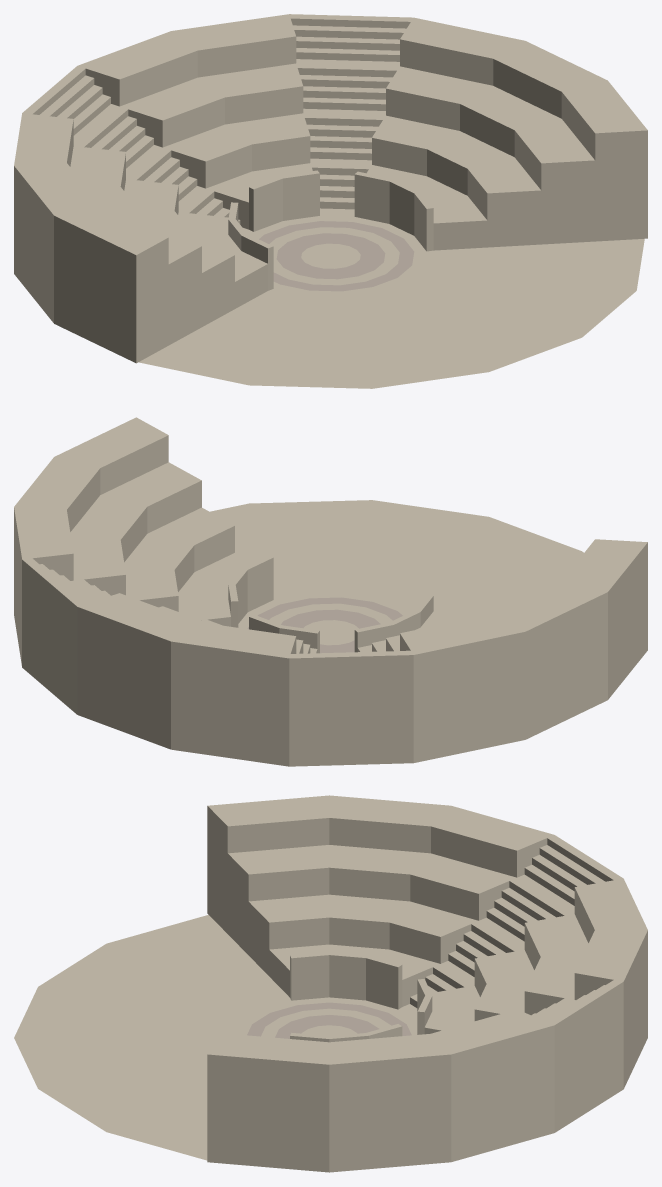
The model's file is Senate.fbx.
The picture shows the model from 3 angles, top to bottom: view 1: azimuth 30°, elevation 25°; view 2: azimuth 150°, elevation 25°; view 3: azimuth 270°, elevation 25°; orthographic projection.
Visible parts, largest first — view 1: Senate; view 2: Senate; view 3: Senate.
Part boxes in pixels (x1=…): Senate: x1=14, y1=14, x2=647, y2=388; Senate: x1=14, y1=417, x2=647, y2=766; Senate: x1=14, y1=795, x2=647, y2=1172.
Size of the model in its own units: 2400 by 448 by 2388.
